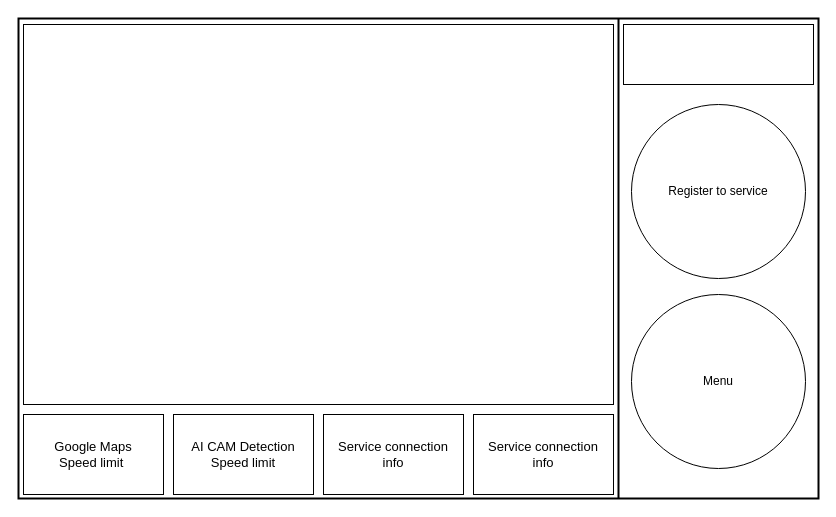
The diagram is 836 pixels wide and 517 high, and some of its shapes have lost their labels. The box of each missing label's shape, as (x1, y1, x2, y2) in pixels:
Forward warning: (22, 24, 614, 404)
Wifi Connection: (622, 24, 814, 84)
